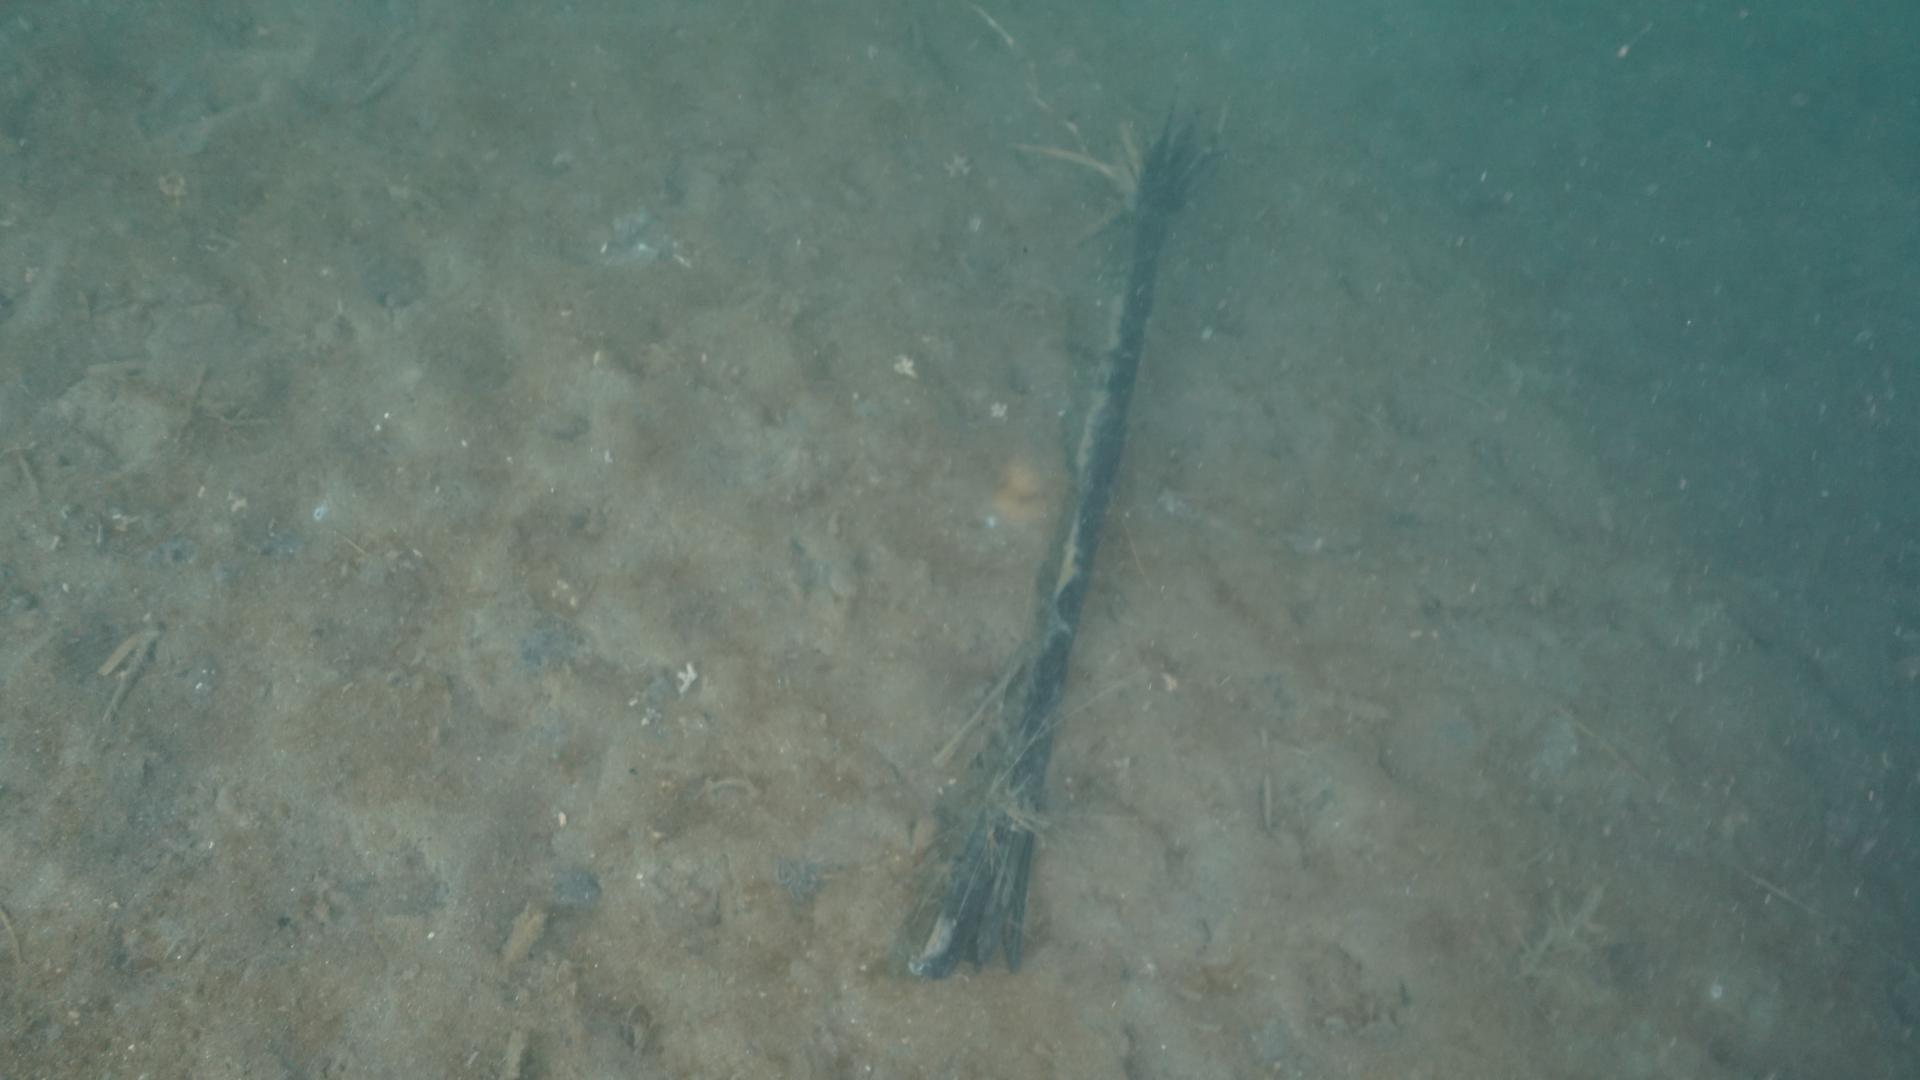wood: (905, 79, 1225, 975)
